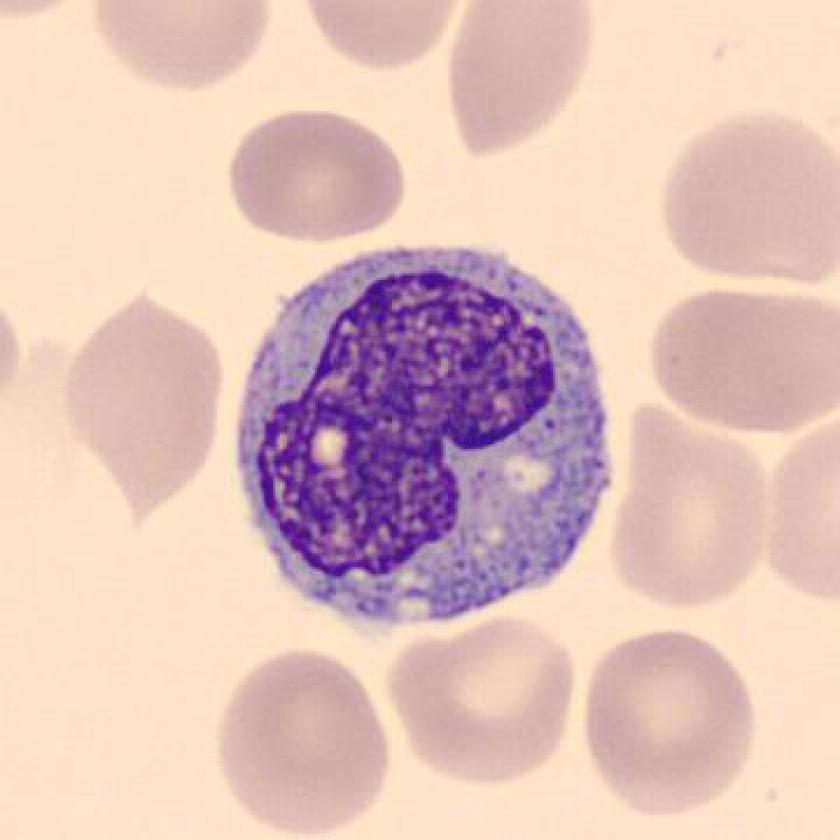monocyte: (216, 225, 636, 642)
